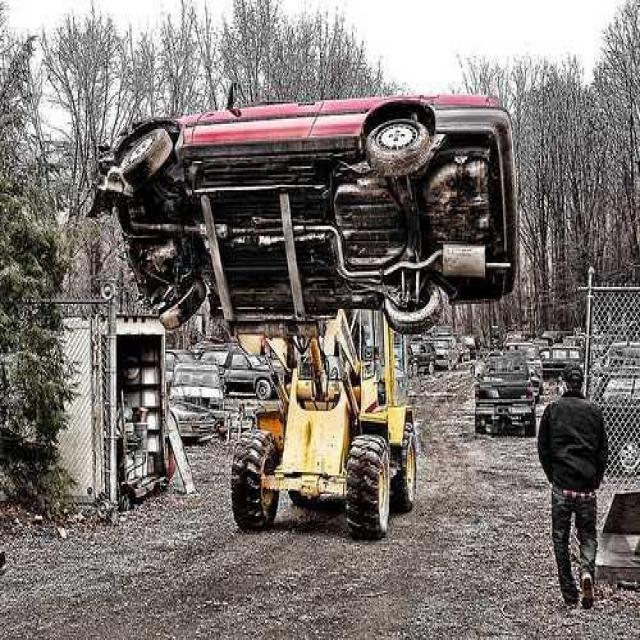Chariot elevateur: (223, 314, 426, 538)
